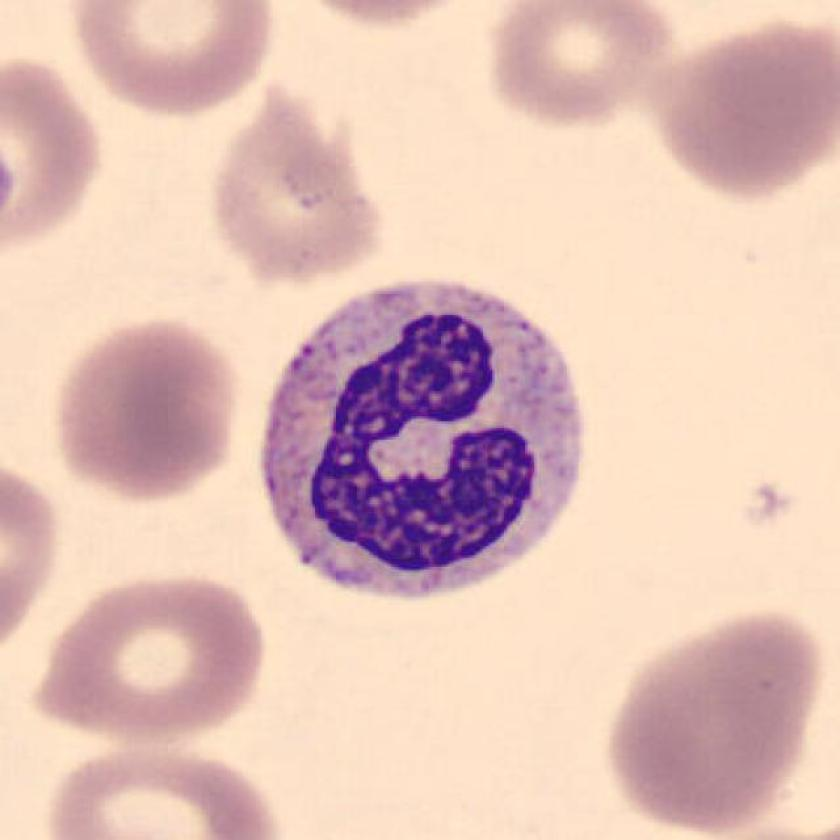neutrophil: (263, 282, 580, 595)
